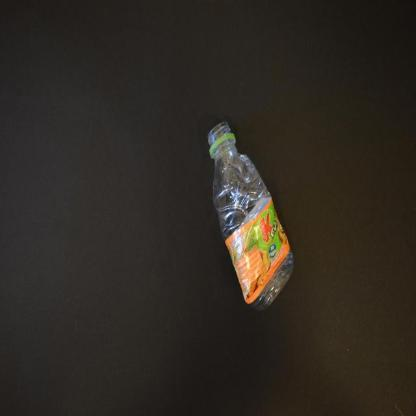Plastic Bottle: (208, 122, 294, 310)
